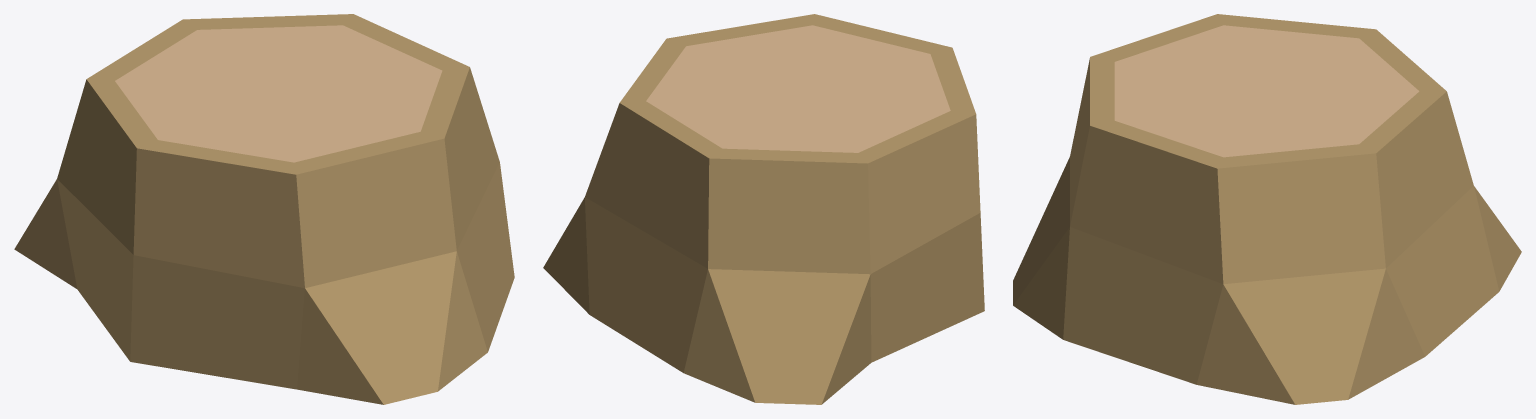
File: Acacia_Stump_04.fbx
The picture shows the model from 3 angles, left to right: view 1: azimuth 30°, elevation 25°; view 2: azimuth 150°, elevation 25°; view 3: azimuth 270°, elevation 25°; orthographic projection. The views are drawn at different scales.
Visible parts, largest first — view 1: Acacia_Stump_04; view 2: Acacia_Stump_04; view 3: Acacia_Stump_04.
Part boxes in pixels (<box>): Acacia_Stump_04: <box>14,14,514,404</box>; Acacia_Stump_04: <box>543,14,984,404</box>; Acacia_Stump_04: <box>1013,14,1521,404</box>.
Size of the model in its own units: 57.82 by 28.19 by 64.39.
